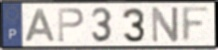3: (121, 6, 146, 43), (91, 6, 115, 44)
A: (23, 7, 57, 43)
F: (180, 5, 212, 44)
N: (150, 5, 180, 45)
P: (56, 7, 85, 44)
